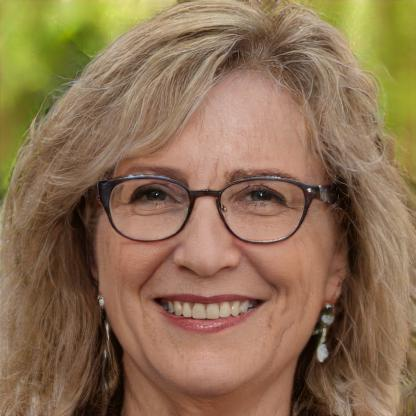glasses: (96, 169, 328, 251)
